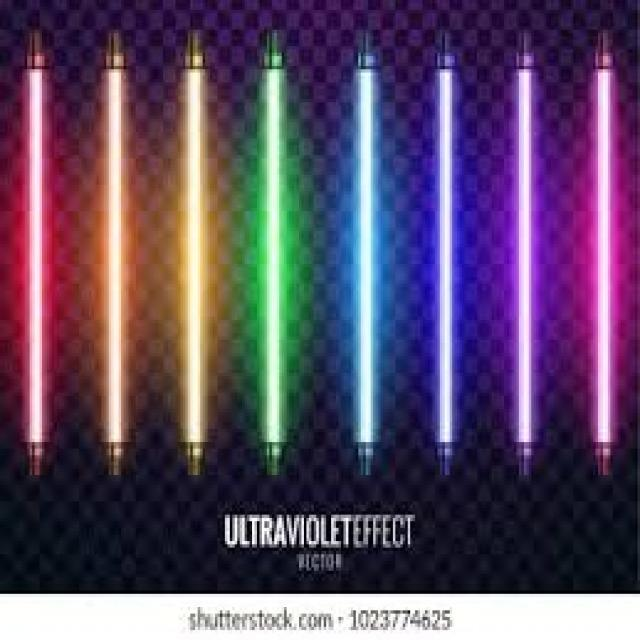tubelight_on: (417, 33, 483, 471), (335, 29, 396, 484), (574, 38, 634, 482), (240, 30, 298, 482), (89, 28, 146, 480), (500, 44, 545, 473), (16, 28, 53, 482), (174, 31, 207, 484)
